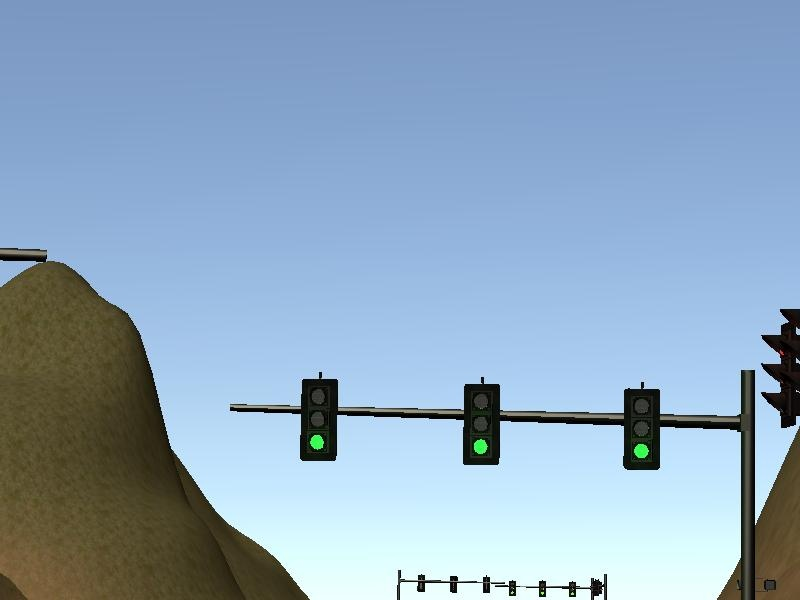GREEN: (621, 385, 662, 476), (461, 381, 503, 467), (299, 377, 337, 462)
